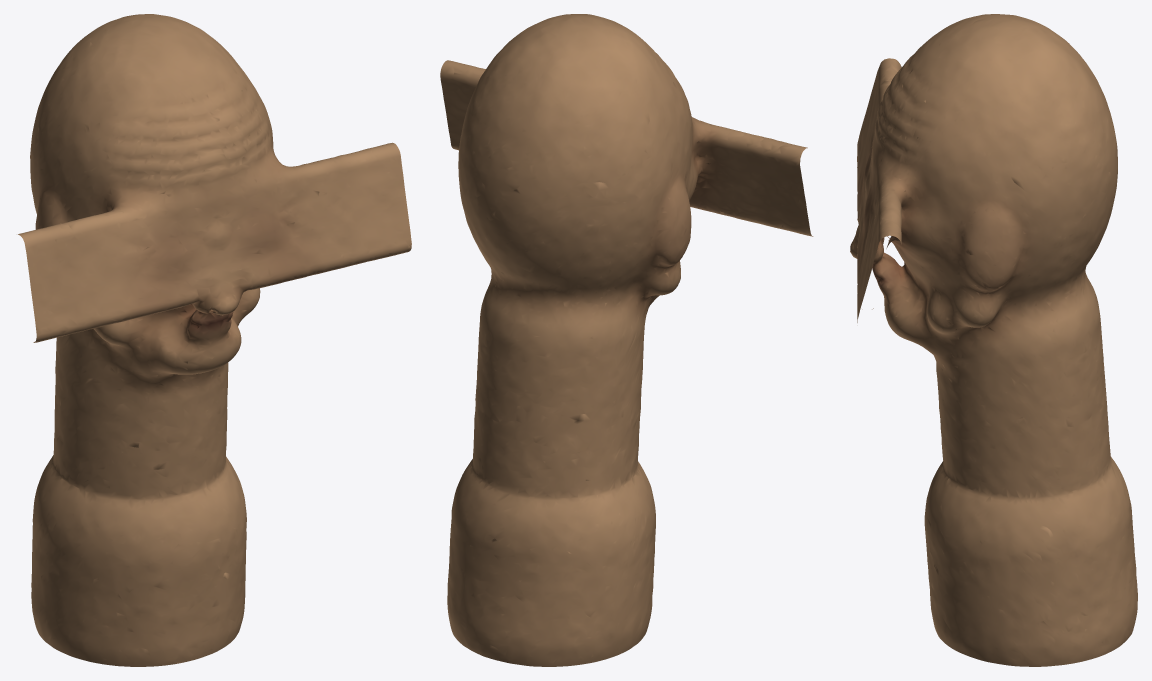
Rendered from behzat_skin.glb.
3 renders of one model, left to right at view 1: azimuth 30°, elevation 25°; view 2: azimuth 150°, elevation 25°; view 3: azimuth 270°, elevation 25°, orthographic. The views are drawn at different scales.
Visible parts, largest first — view 1: geometry_0; view 2: geometry_0; view 3: geometry_0.
Part boxes in pixels (box(x1,y1,x2,y2)): geometry_0: box(18, 14, 411, 666); geometry_0: box(440, 14, 813, 666); geometry_0: box(850, 14, 1137, 666).
Size of the model in its own units: 0.2916 by 0.4582 by 0.1996.
